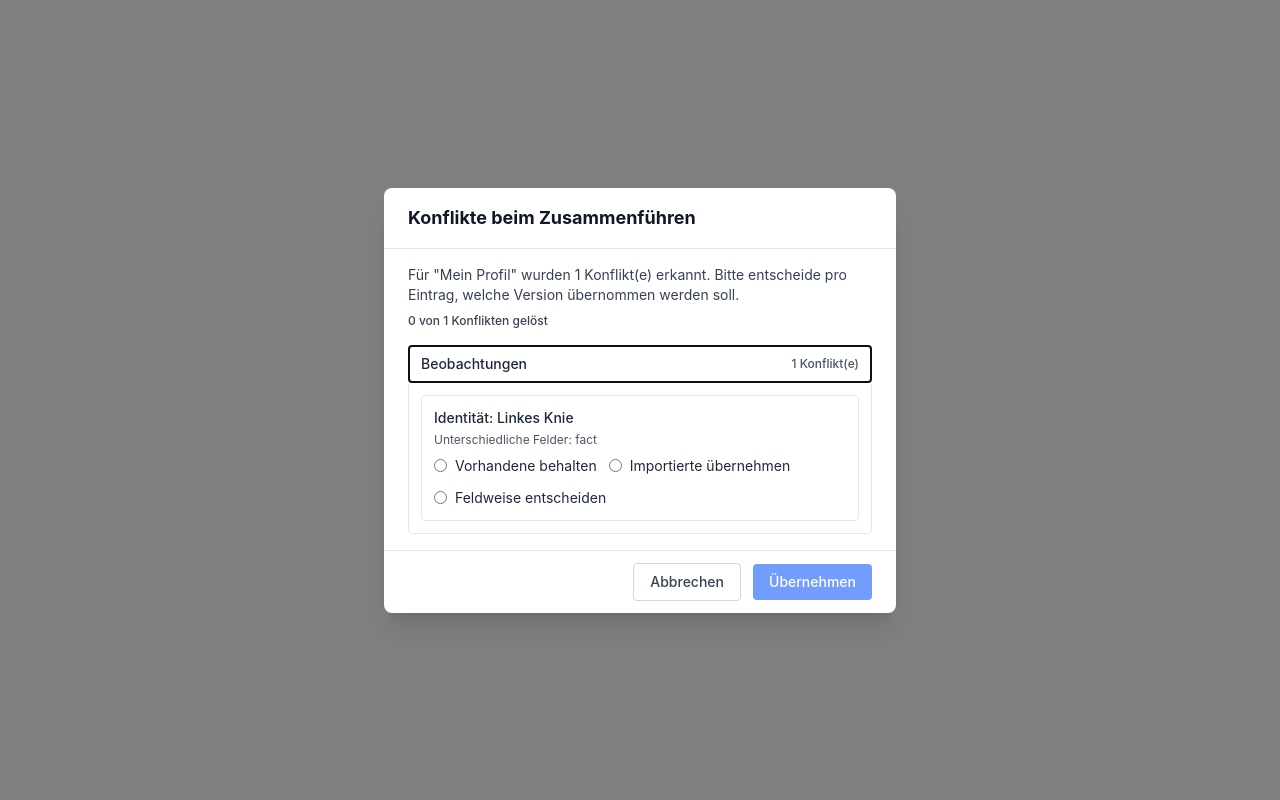
Test case: ConflictResolutionDialog › long values truncate with click-to-expand toggle
Click the radio button with test id "conflict-row-obs-existing-1-field-by-field" at (440, 498), box [434,491,447,504]
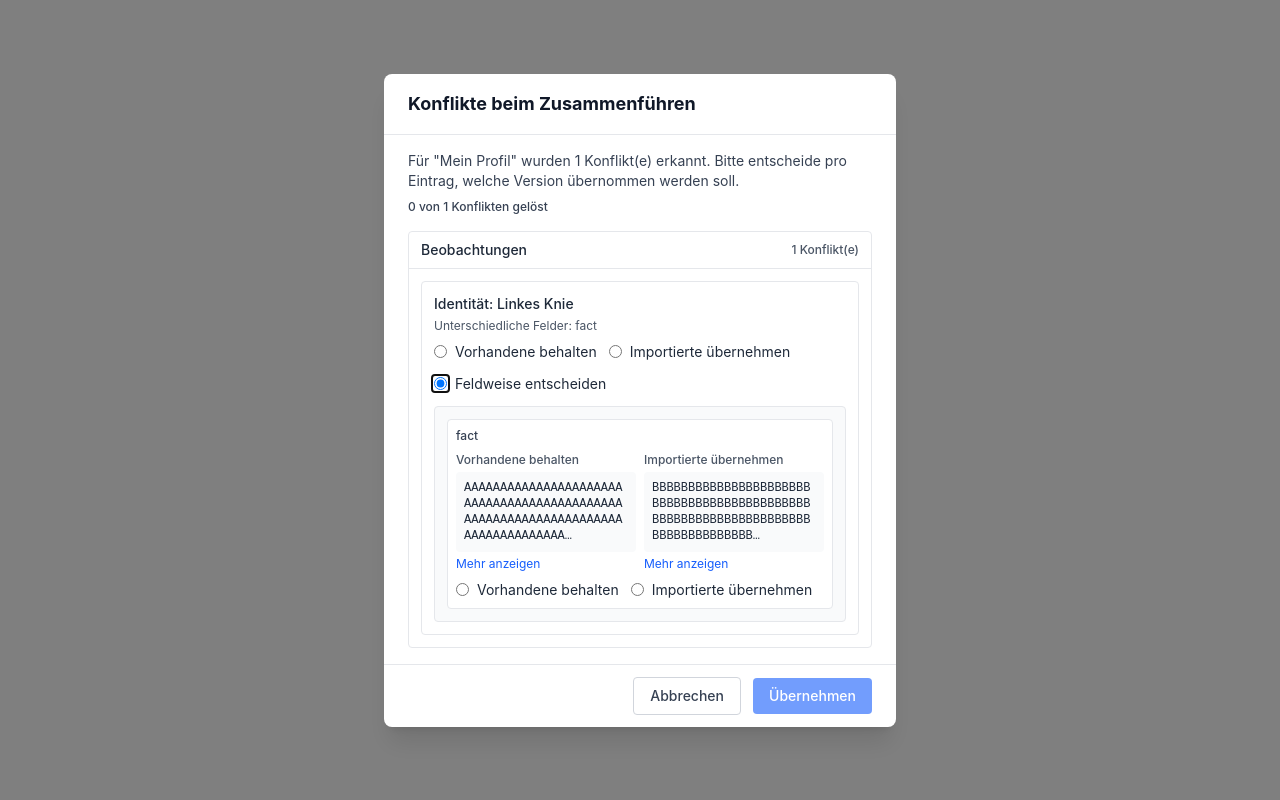
Check: the text with test id "conflict-row-obs-existing-1-field-fact-mine-value" shows "…", box [456,472,636,552]
# Toggle expands.
Click the button with test id "conflict-row-obs-existing-1-field-fact-mine-value-toggle" at (498, 564), box [456,556,540,572]
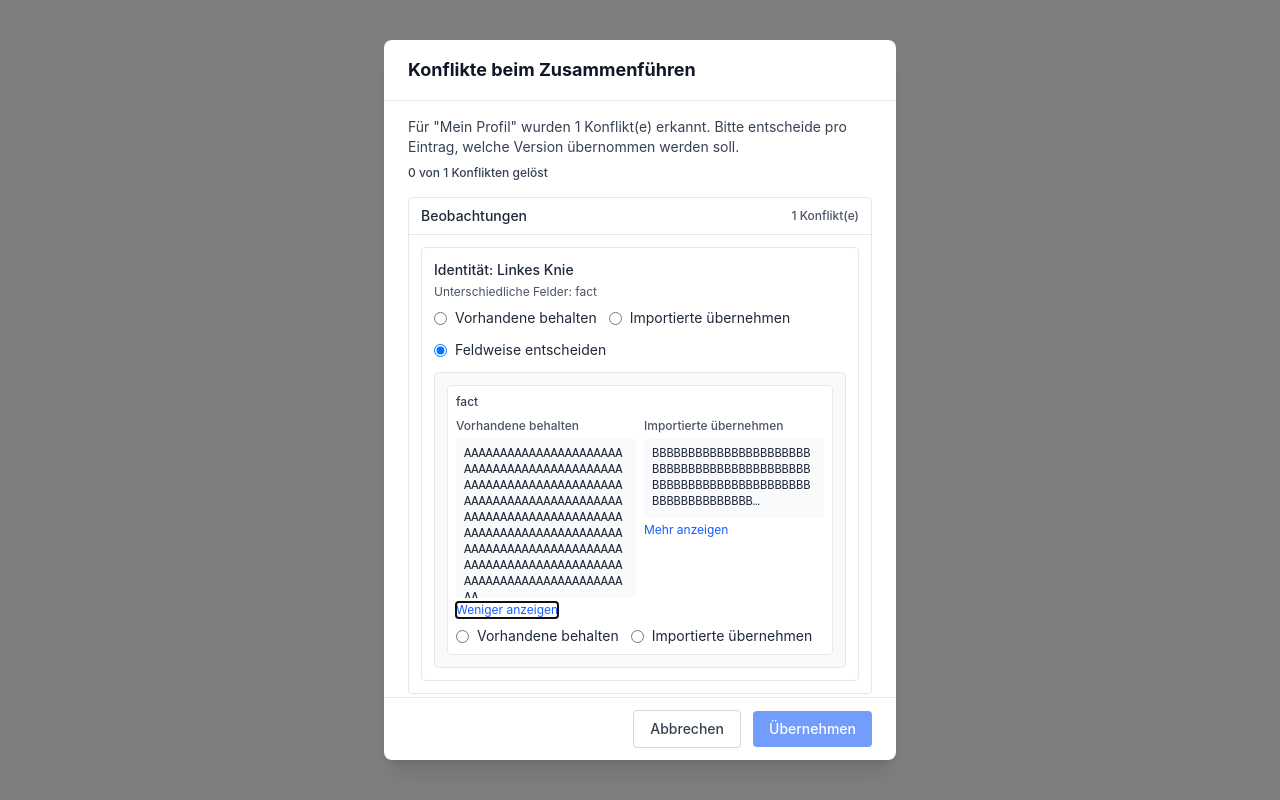
Check: the text with test id "conflict-row-obs-existing-1-field-fact-mine-value" no longer shows "…"
